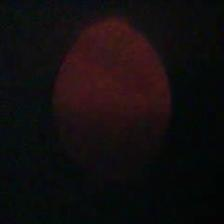fertile: (48, 12, 174, 188)
